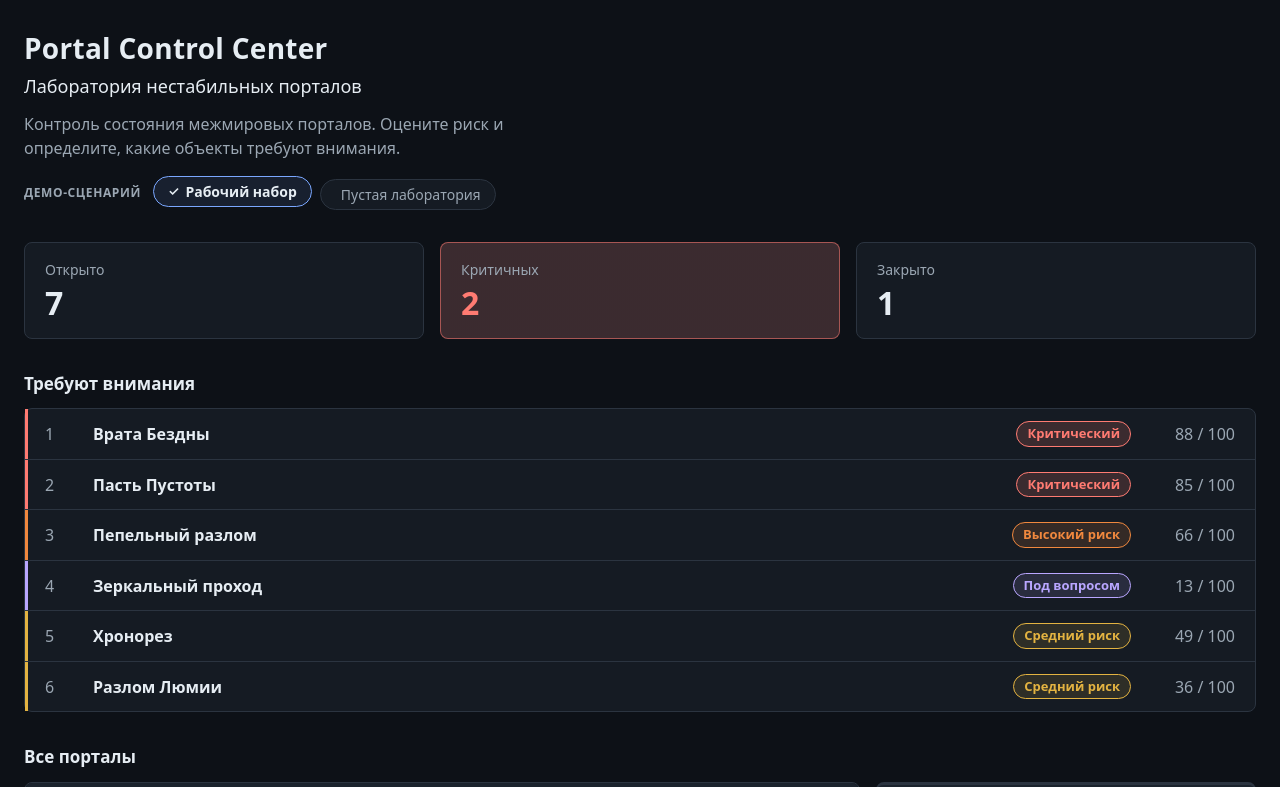
it: Выбор портала и карточка › портал открывается из списка внимания, а выбор переключается на другой портал
This screenshot has width=1280, height=787.
Click the button "2 Пасть Пустоты Критический 85 / 100" at (154, 485), box x1=25 y1=460 x2=1255 y2=509
(page scrolled)
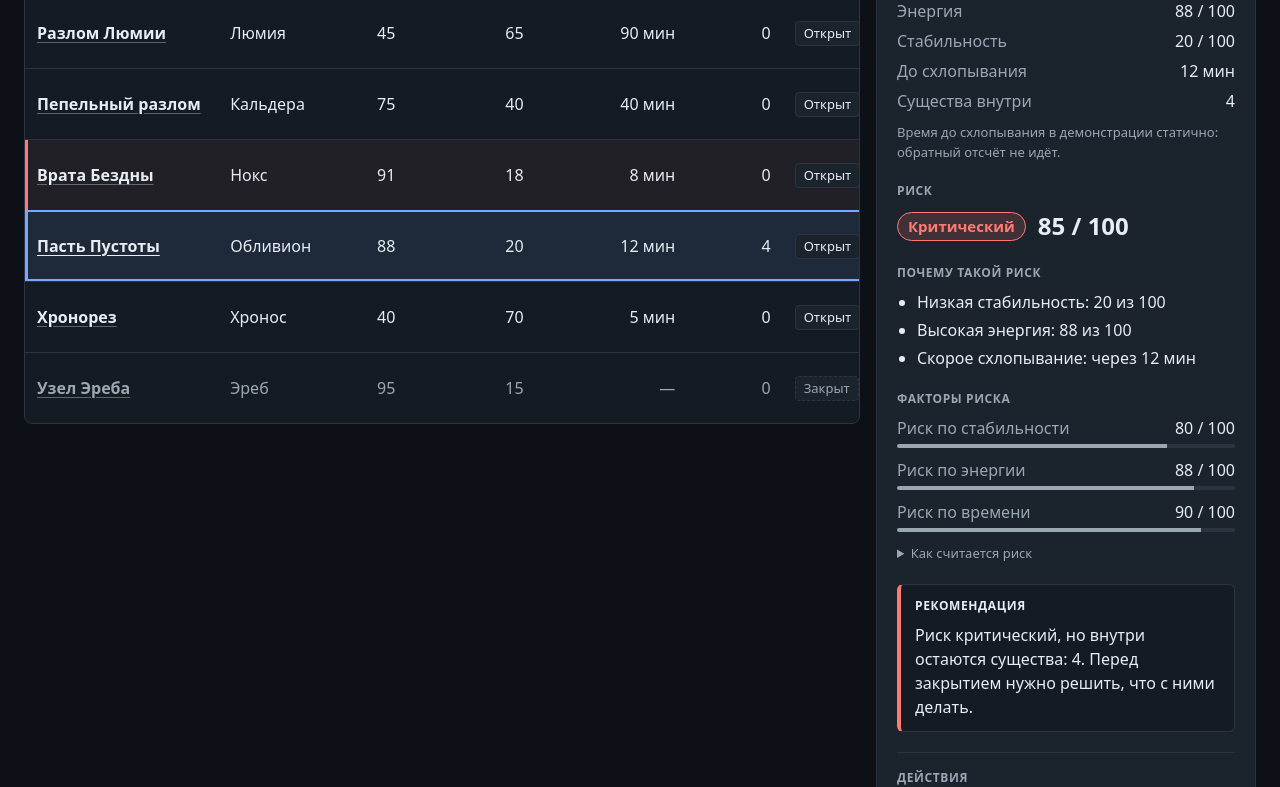
Click the button "Узел Эреба" at (84, 388), box x1=37 y1=376 x2=130 y2=400
(page scrolled)
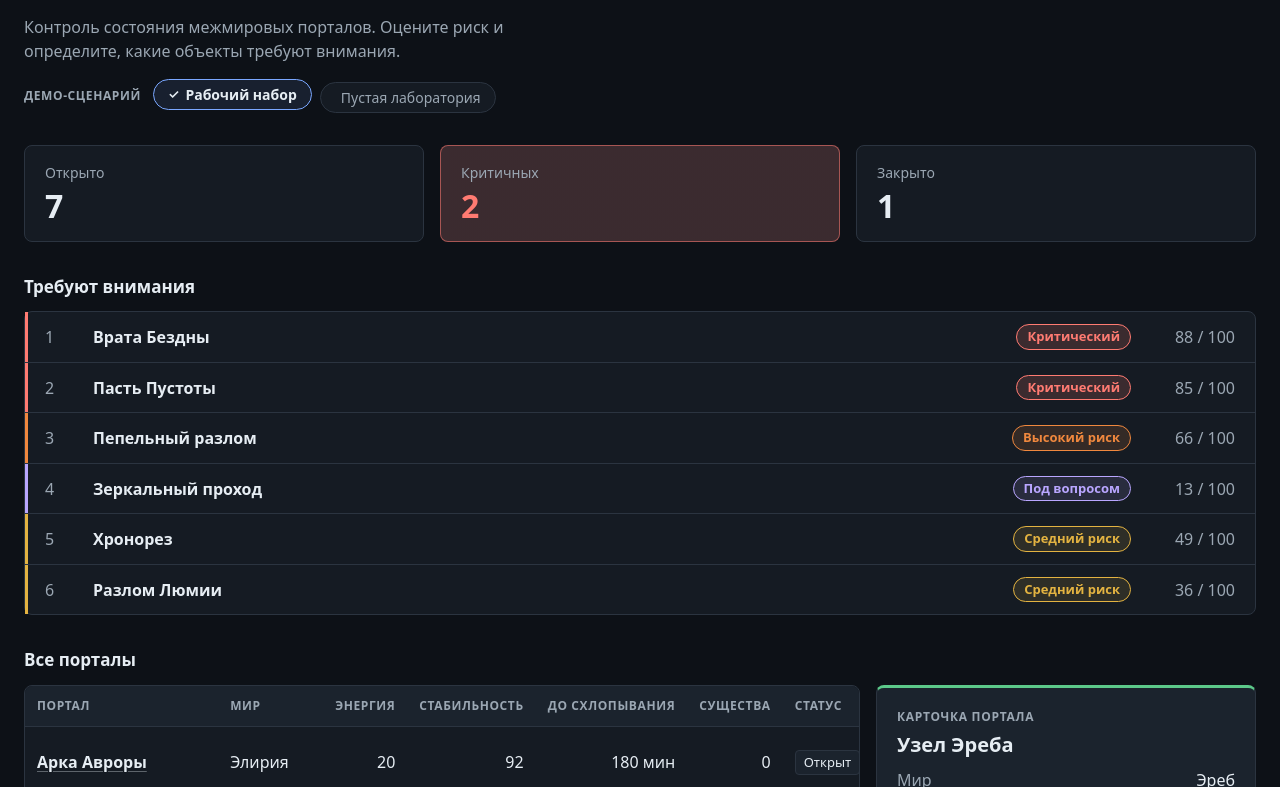
Result: the heading "Узел Эреба" is shown at x1=897 y1=731 x2=1014 y2=758
